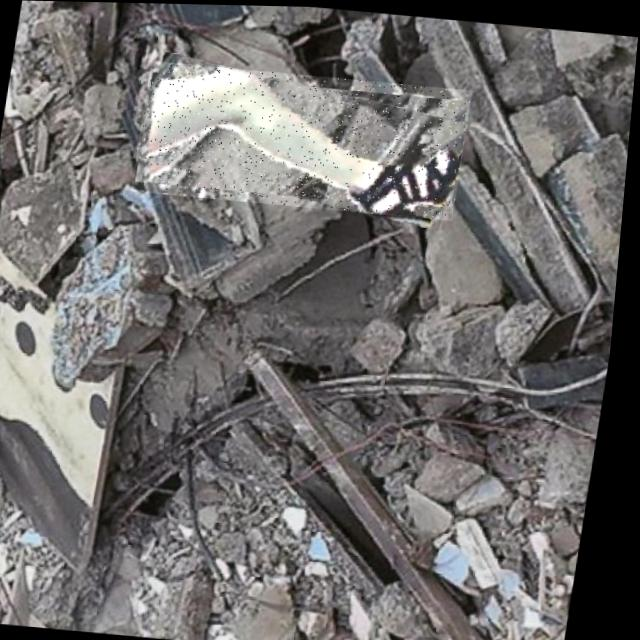Person in Rubble: (133, 59, 476, 217)
